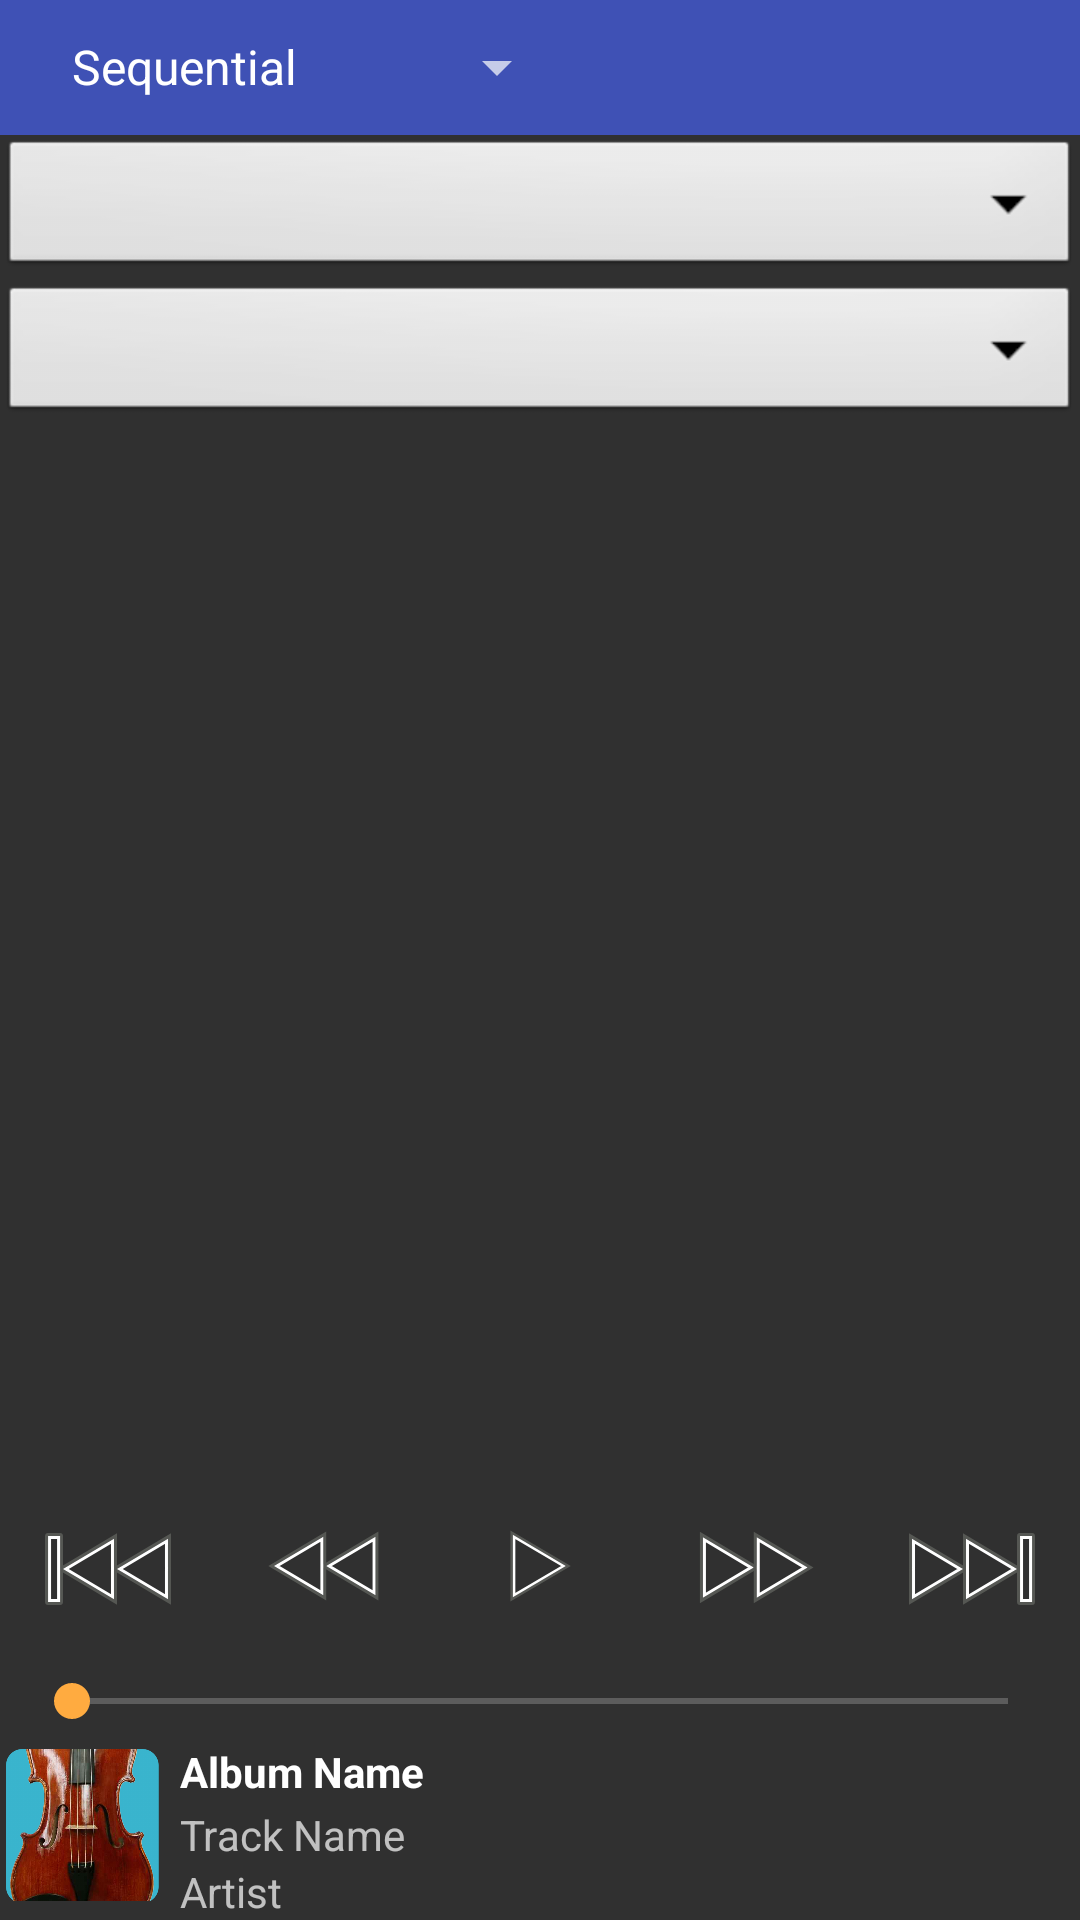

Screen size 1080w x 1920h. Icon name, then its box in pixels as bbox(x1, y1, x2, y2):
playback start: bbox(511, 1531, 570, 1601)
seek backward: bbox(269, 1532, 378, 1600)
seek forward: bbox(700, 1532, 813, 1603)
skip backward: bbox(45, 1533, 171, 1605)
skip forward: bbox(909, 1533, 1035, 1605)
violin: bbox(6, 1749, 159, 1901)
